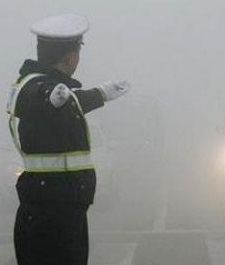person: (6, 12, 135, 265)
